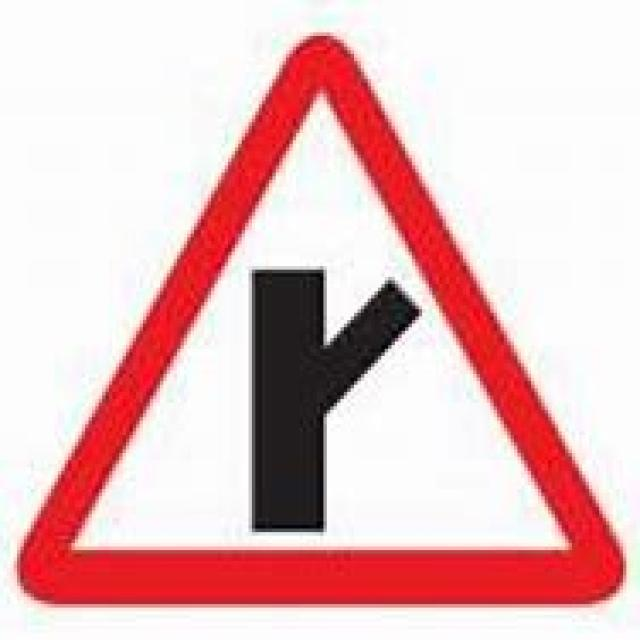y intersection: (17, 31, 619, 610)
